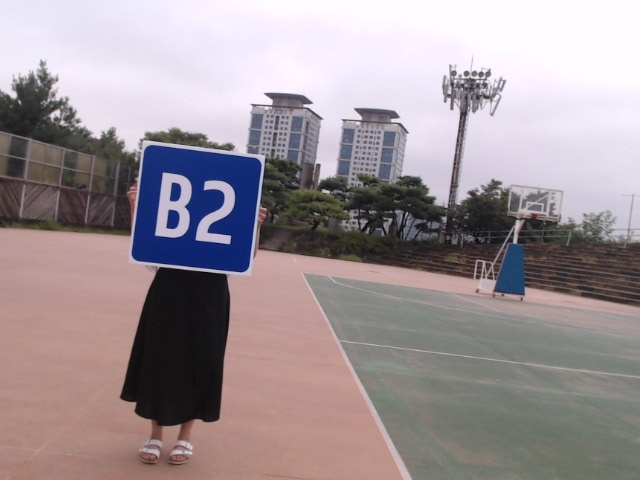delivery_b2: (128, 145, 263, 274)
